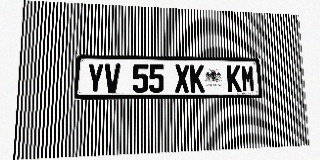5: (133, 64, 148, 93), (149, 64, 164, 93)
K: (190, 65, 205, 93), (227, 65, 241, 92)
M: (241, 65, 255, 92)
V: (104, 63, 120, 93)
X: (175, 64, 190, 93)
Y: (87, 63, 104, 93)
